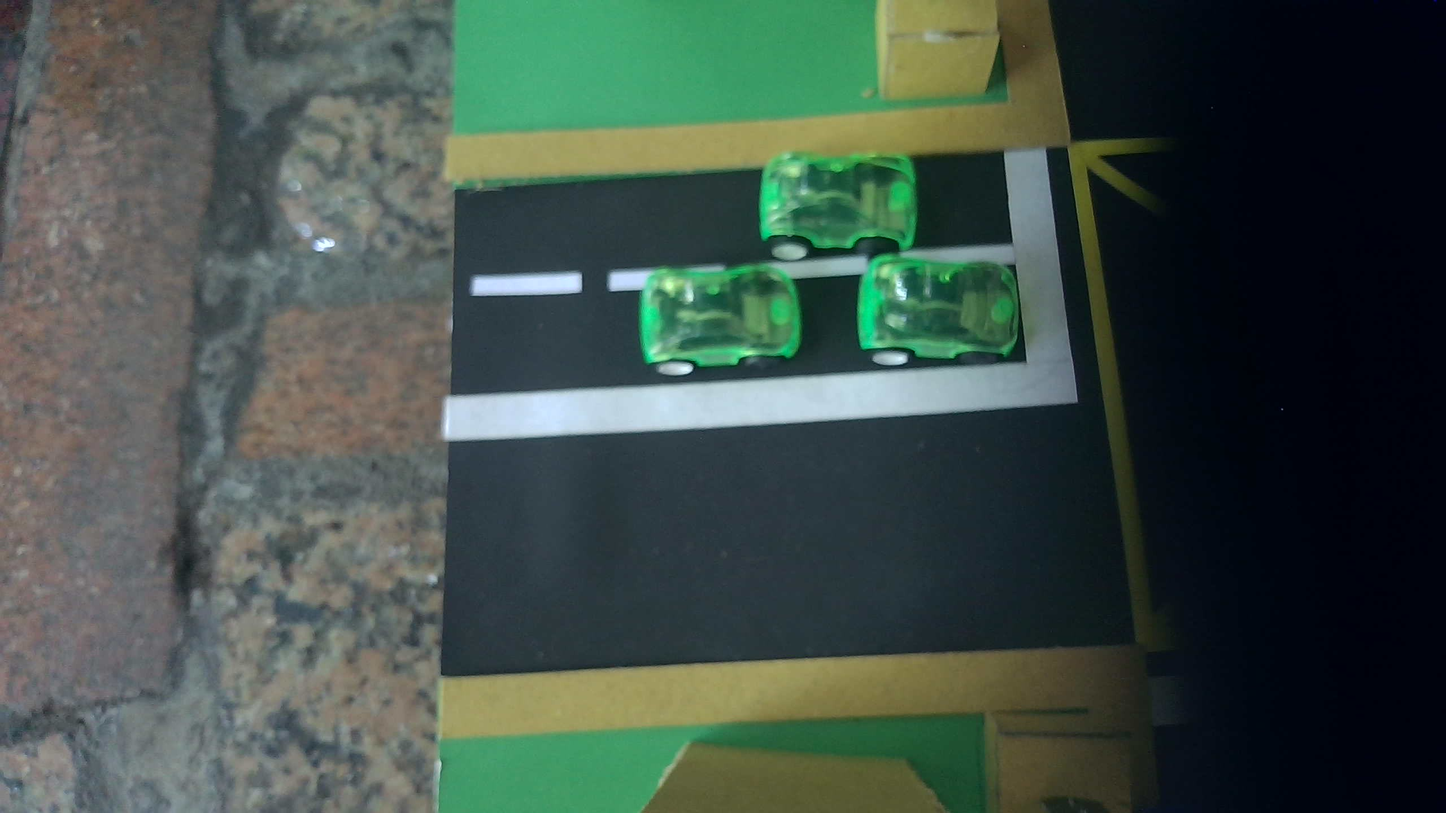Mobil hijau: (856, 254, 1020, 365), (639, 264, 801, 376), (759, 152, 917, 260)
